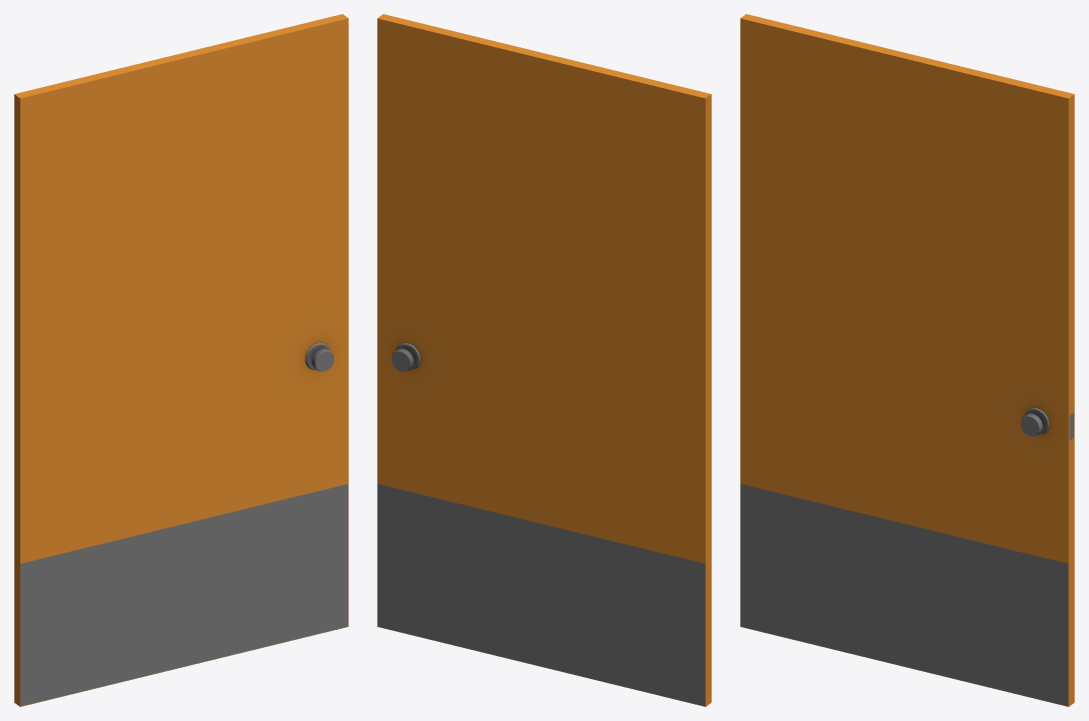
Rendered from simpledoor.gltf.
The picture shows the model from 3 angles, left to right: view 1: azimuth 30°, elevation 25°; view 2: azimuth 150°, elevation 25°; view 3: azimuth 330°, elevation 25°; orthographic projection.
Visible parts, largest first — view 1: SimpleDoor; view 2: SimpleDoor; view 3: SimpleDoor.
Boxes of the visible parts, bbox=[...] form: SimpleDoor: bbox=[14, 14, 348, 706]; SimpleDoor: bbox=[377, 14, 711, 706]; SimpleDoor: bbox=[740, 14, 1074, 706].
Bounding box in the file's own units: 1.26 × 2.23 × 0.1393.
1 material, 1 textured.
